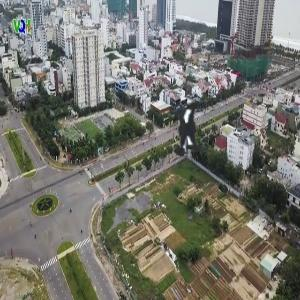drone: (105, 48, 274, 217)
